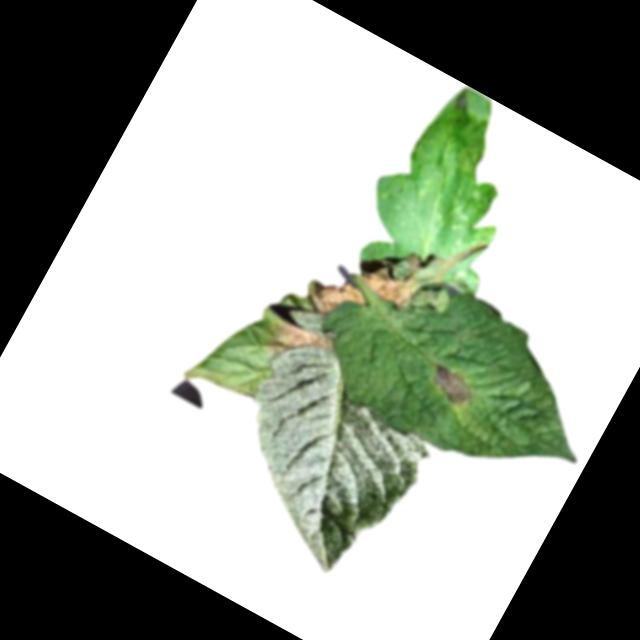Late_blight: (407, 76, 513, 189), (353, 235, 434, 315), (260, 313, 340, 384), (297, 262, 373, 332), (423, 360, 485, 415)
healthy: (193, 329, 452, 592)
